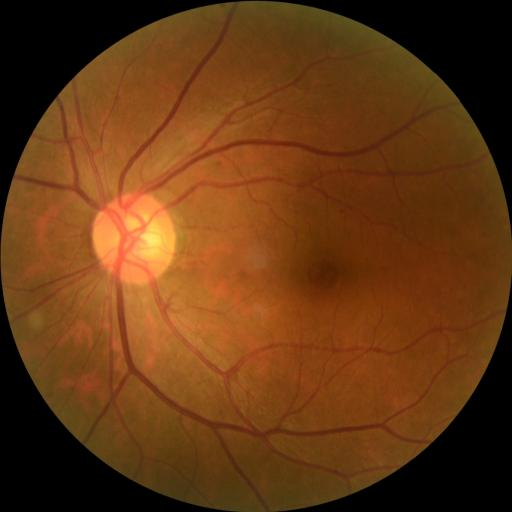Optic Cup: (123, 214, 162, 261)
Optic Disc: (92, 191, 176, 285)
